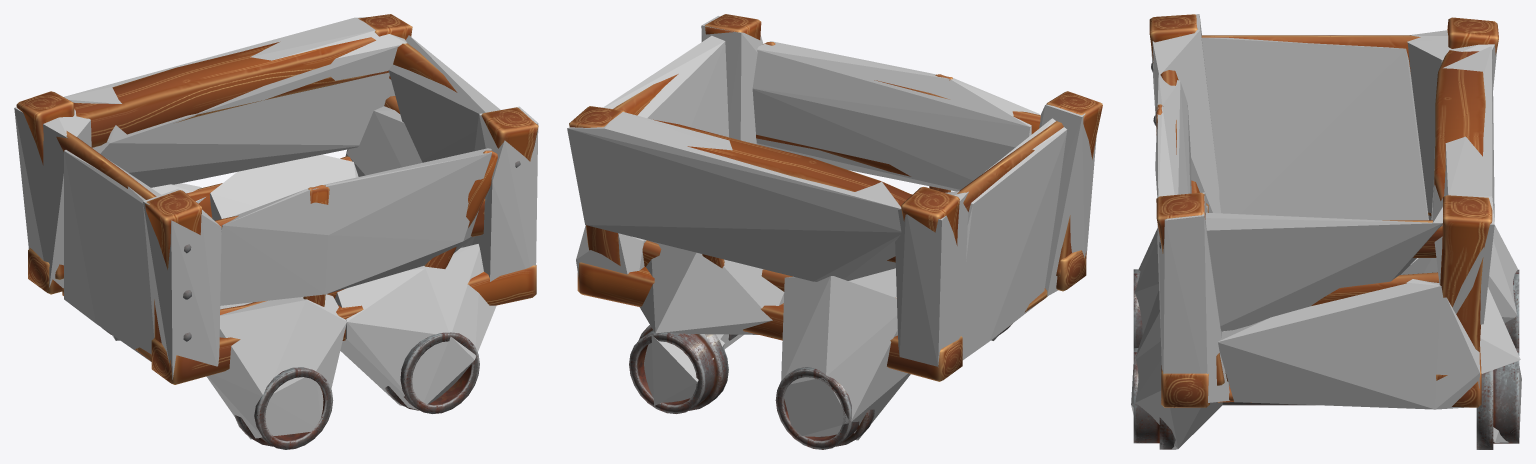
File: SM_Trolley_e.fbx
3 renders of one model, left to right at view 1: azimuth 30°, elevation 25°; view 2: azimuth 150°, elevation 25°; view 3: azimuth 270°, elevation 25°, orthographic. The views are drawn at different scales.
Visible parts, largest first — view 1: SM_Trolley_e_ConvexHulls, SM_Trolley_e; view 2: SM_Trolley_e_ConvexHulls, SM_Trolley_e; view 3: SM_Trolley_e_ConvexHulls, SM_Trolley_e.
Boxes of the visible parts, x1,y1,x2,y2 form: SM_Trolley_e_ConvexHulls: (14, 17, 538, 439); SM_Trolley_e: (16, 14, 538, 449); SM_Trolley_e_ConvexHulls: (567, 16, 1096, 440); SM_Trolley_e: (569, 14, 1102, 449); SM_Trolley_e_ConvexHulls: (1131, 14, 1521, 449); SM_Trolley_e: (1133, 14, 1519, 449).
Size of the model in its own units: 168 by 135 by 112.
Materials: 2 (1 with a texture image).
